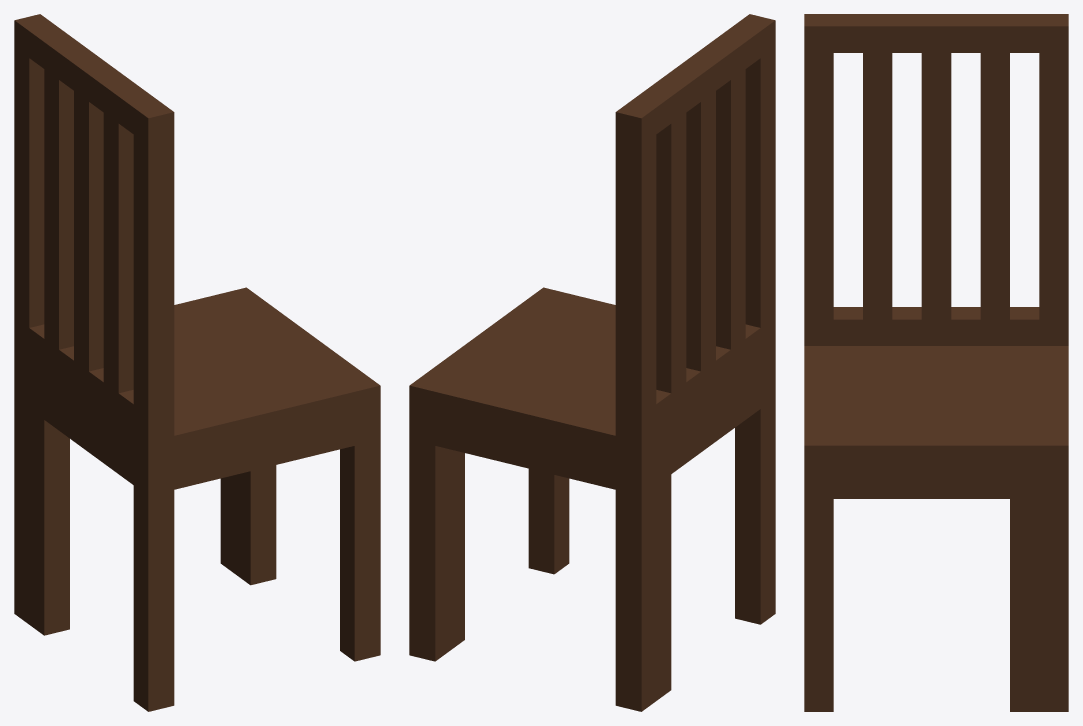
Rendered from Cnek.obj.
3 views of the same model, side by side, from view 1: azimuth 30°, elevation 25°; view 2: azimuth 150°, elevation 25°; view 3: azimuth 270°, elevation 25° (orthographic).
Visible parts, largest first — view 1: Cnek; view 2: Cnek; view 3: Cnek.
Part boxes in pixels (box(x1,y1,x2,y2)): Cnek: box(14, 14, 380, 711); Cnek: box(409, 14, 775, 711); Cnek: box(804, 14, 1068, 711).
Size of the model in its own units: 0.9 by 2.2 by 0.9.
1 material, 1 textured.
